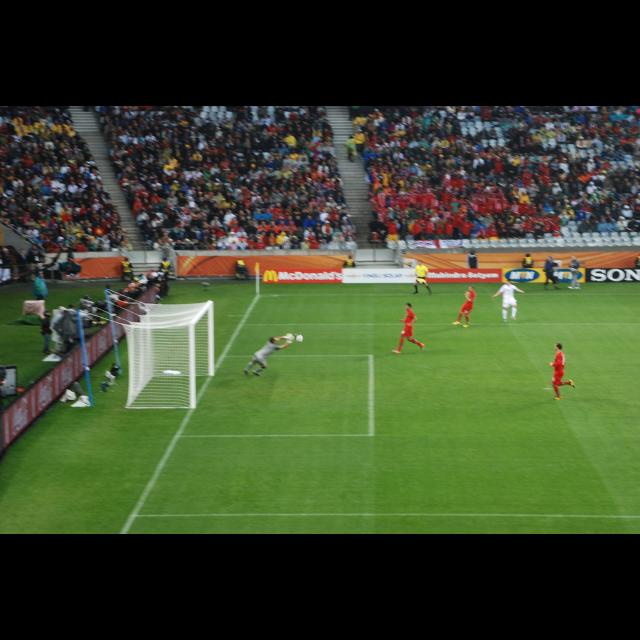Football: (295, 334, 301, 340)
